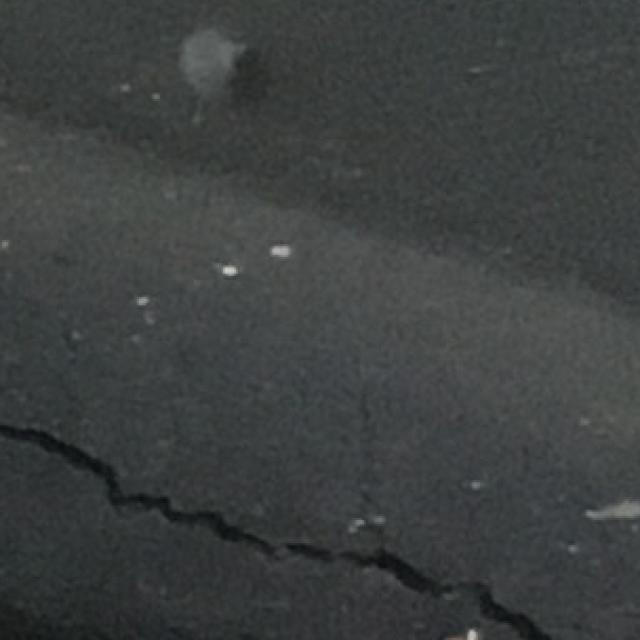Cracks: (0, 343, 638, 638)
